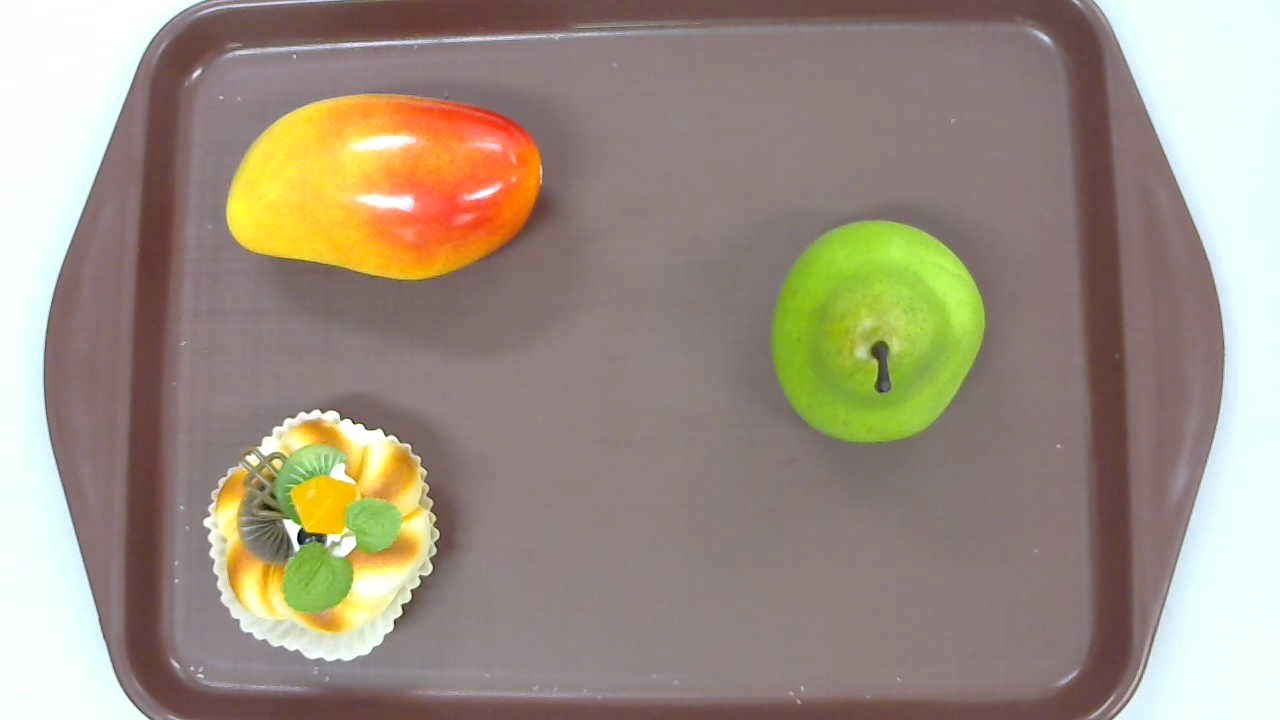fruit tower: (203, 409, 439, 662)
green pear: (770, 219, 986, 443)
red mango: (225, 94, 543, 280)
